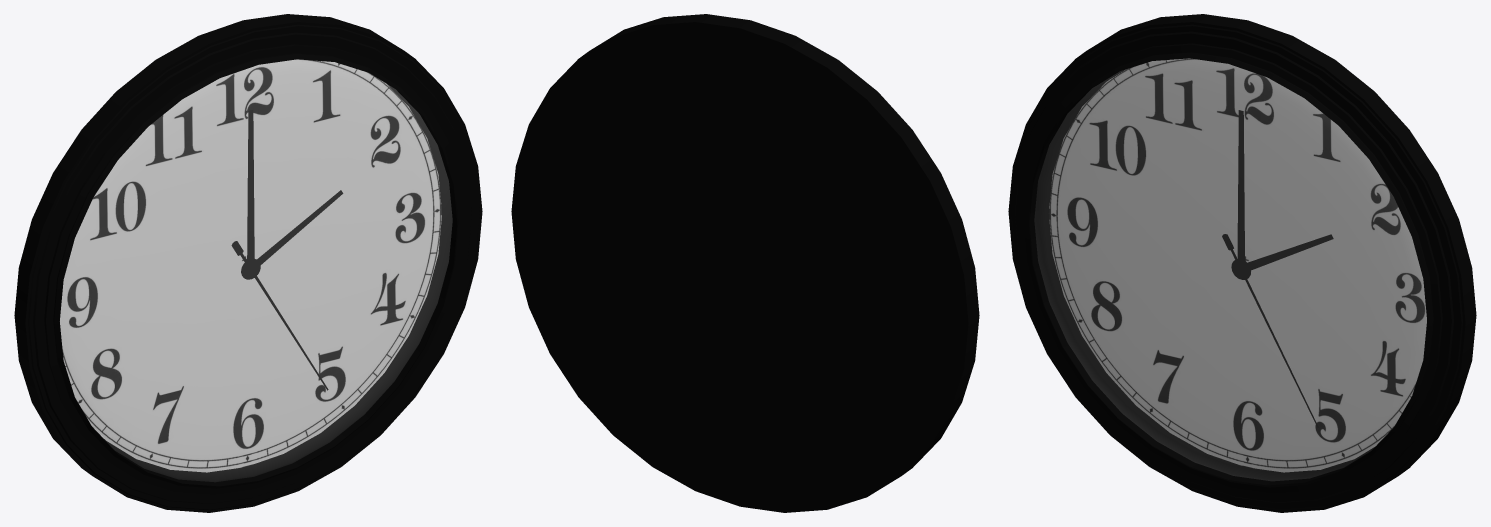
The model's file is clock-small.glb.
The picture shows the model from 3 angles, left to right: view 1: azimuth 30°, elevation 25°; view 2: azimuth 150°, elevation 25°; view 3: azimuth 330°, elevation 25°; orthographic projection.
Parts seen in each view (by area): view 1: clock_glass_glass_clock_0, clock_face_clock_face_0, clock_frame_clock_frame_0, clock_big_hand_clock_pointer_0; view 2: clock_frame_clock_frame_0; view 3: clock_glass_glass_clock_0, clock_face_clock_face_0, clock_frame_clock_frame_0, clock_big_hand_clock_pointer_0.
Part boxes in pixels (x1,y1,x2,y2): clock_glass_glass_clock_0: (60,59,452,481); clock_face_clock_face_0: (60,59,442,472); clock_frame_clock_frame_0: (14,14,482,512); clock_big_hand_clock_pointer_0: (231,110,343,390); clock_frame_clock_frame_0: (511,14,979,512); clock_glass_glass_clock_0: (1034,58,1426,480); clock_face_clock_face_0: (1048,58,1426,472); clock_frame_clock_frame_0: (1008,14,1476,512); clock_big_hand_clock_pointer_0: (1222,110,1333,427).
Bounding box in the file's own units: 0.6937 × 0.6937 × 0.0557.
Materials: 4 (1 with a texture image).
